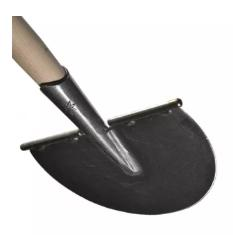PELLE: (10, 7, 222, 224)
